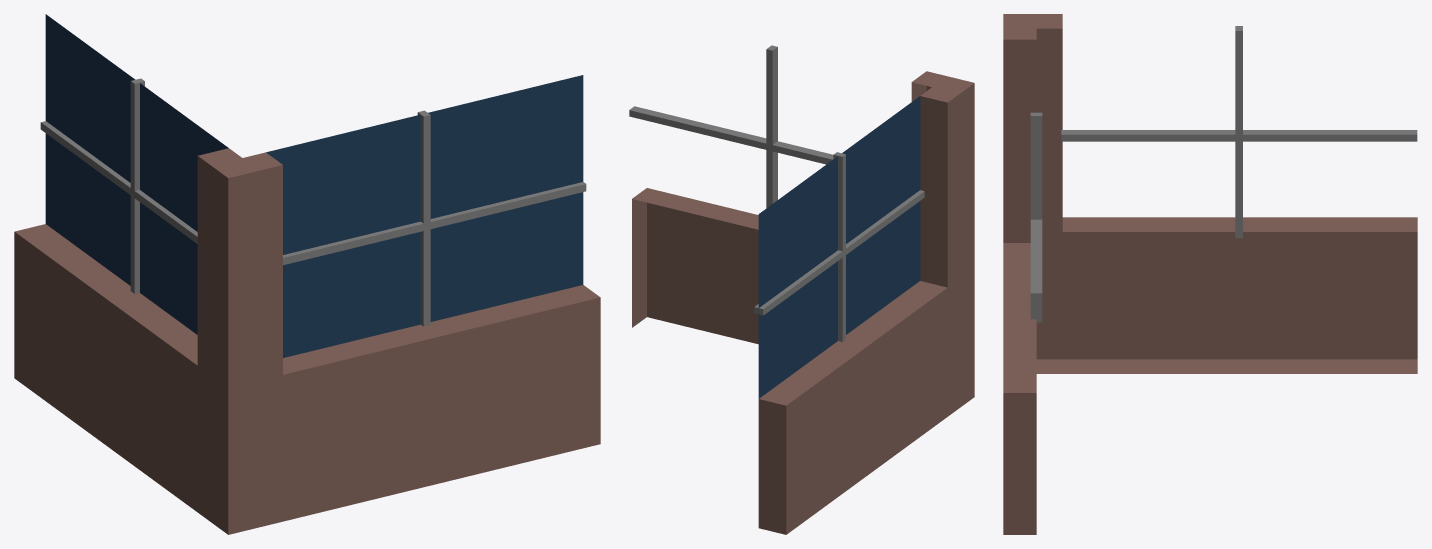
File: mid-c1.fbx
The picture shows the model from 3 angles, left to right: view 1: azimuth 30°, elevation 25°; view 2: azimuth 150°, elevation 25°; view 3: azimuth 270°, elevation 25°; orthographic projection. The views are drawn at different scales.
Parts seen in each view (by area): view 1: mid-c1; view 2: mid-c1; view 3: mid-c1.
Boxes of the visible parts, box(x1,y1,x2,y2) form: mid-c1: box(14, 14, 600, 534); mid-c1: box(629, 45, 974, 534); mid-c1: box(1003, 14, 1417, 534).
Size of the model in its own units: 3.28 by 3 by 3.26.
